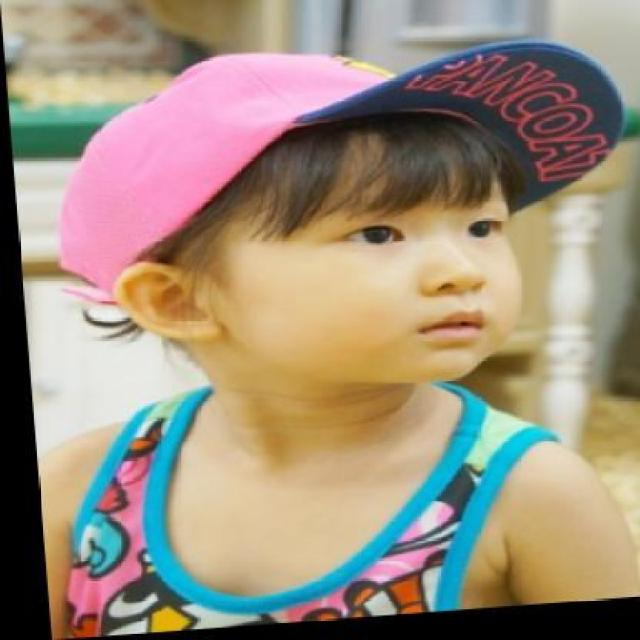hat: (32, 20, 640, 309)
